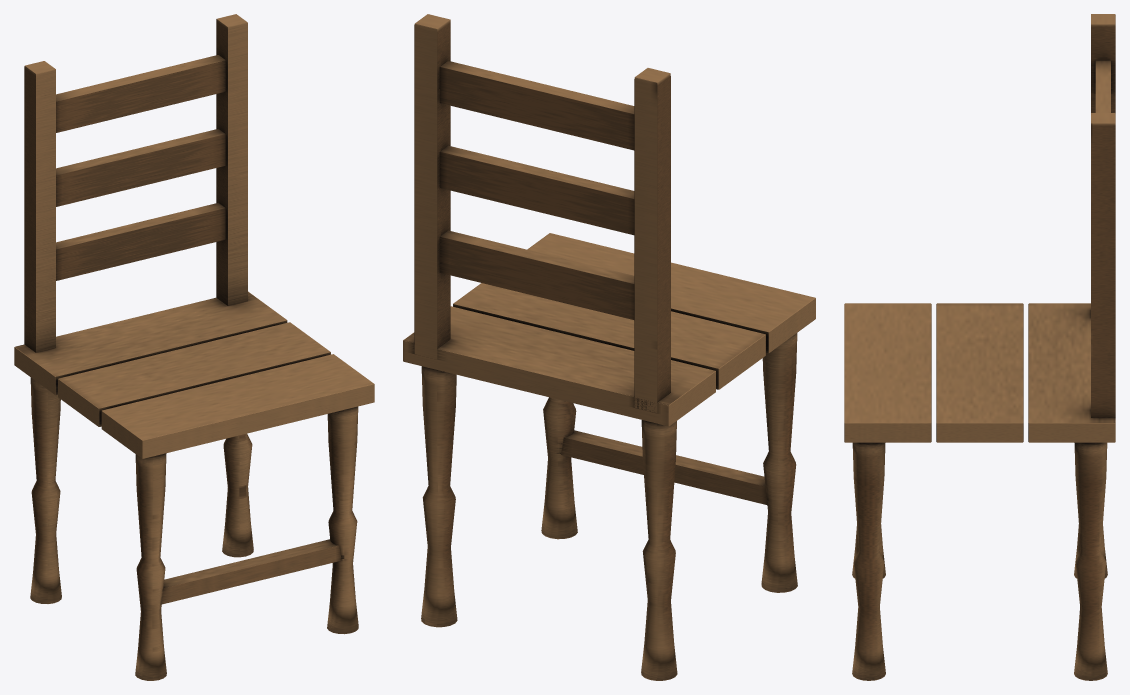
The model's file is movel_cadeira.glb.
The picture shows the model from 3 angles, left to right: view 1: azimuth 30°, elevation 25°; view 2: azimuth 150°, elevation 25°; view 3: azimuth 270°, elevation 25°; orthographic projection. The views are drawn at different scales.
Parts seen in each view (by area): view 1: movel_cadeira; view 2: movel_cadeira; view 3: movel_cadeira.
Boxes of the visible parts, x1,y1,x2,y2 form: movel_cadeira: (14,14,374,680); movel_cadeira: (403,14,815,680); movel_cadeira: (844,14,1115,680).
Bounding box in the file's own units: 0.46 × 0.995 × 0.44.
1 material, 1 textured.
